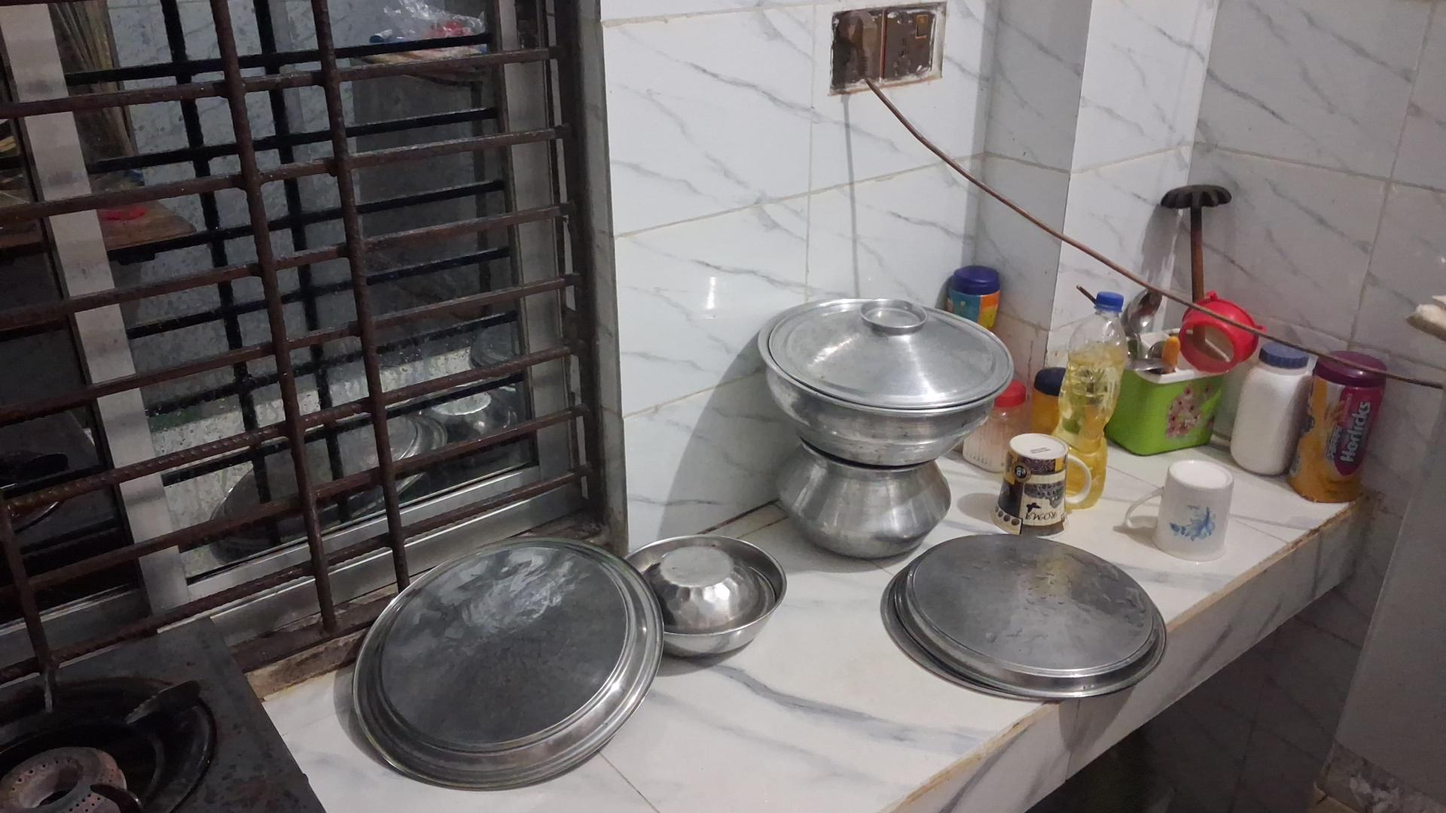Bottle: (1050, 290, 1129, 509)
Bowl: (624, 533, 787, 661)
Cup: (1118, 458, 1234, 564), (1001, 428, 1090, 534)
Jar: (1225, 340, 1320, 477), (1293, 355, 1380, 504)
Plate: (359, 541, 654, 777), (883, 529, 1173, 694), (495, 537, 504, 549)
Pot: (753, 290, 1011, 463), (772, 445, 949, 558)
